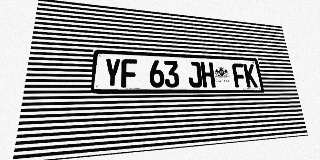3: (164, 60, 179, 87)
6: (149, 60, 165, 87)
F: (121, 59, 137, 87), (232, 63, 247, 87)
H: (200, 62, 216, 87)
J: (187, 61, 202, 87)
K: (243, 64, 258, 87)
Y: (103, 58, 121, 87)
